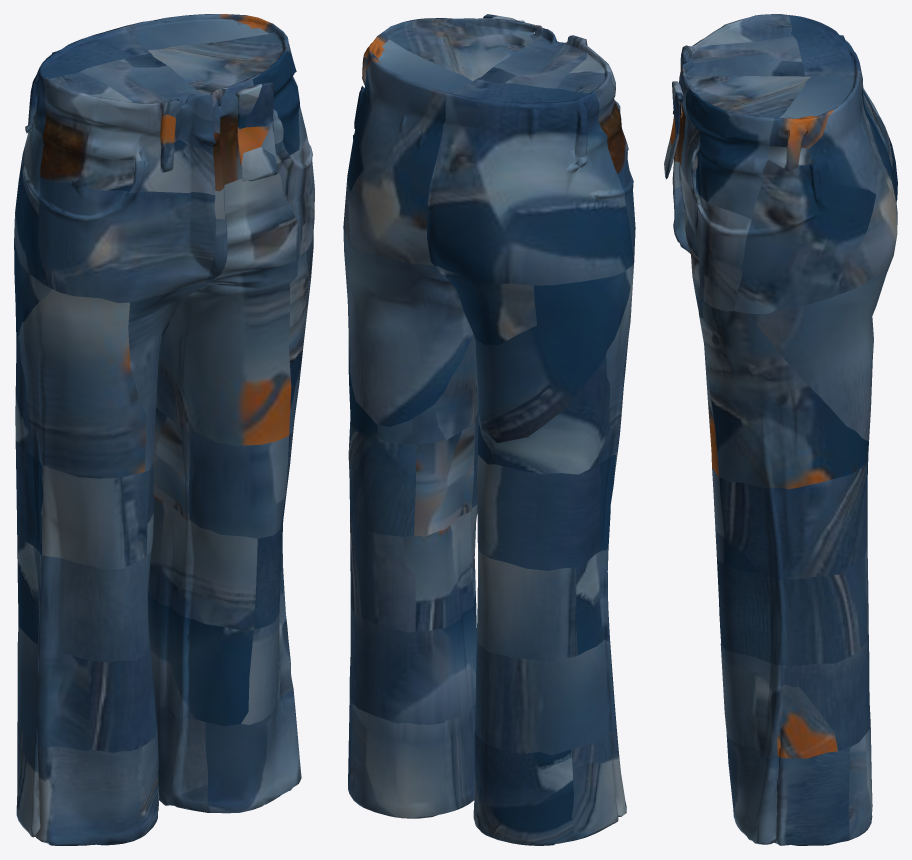
Rendered from jeans2.glb.
3 views of the same model, side by side, from view 1: azimuth 30°, elevation 25°; view 2: azimuth 150°, elevation 25°; view 3: azimuth 270°, elevation 25° (orthographic). The views are drawn at different scales.
Parts seen in each view (by area): view 1: garment; view 2: garment; view 3: garment.
Boxes of the visible parts, x1,y1,x2,y2 form: garment: (14, 14, 314, 845); garment: (343, 14, 635, 845); garment: (664, 14, 897, 845).
Bounding box in the file's own units: 0.38 × 0.9998 × 0.292.
1 material, 1 textured.
